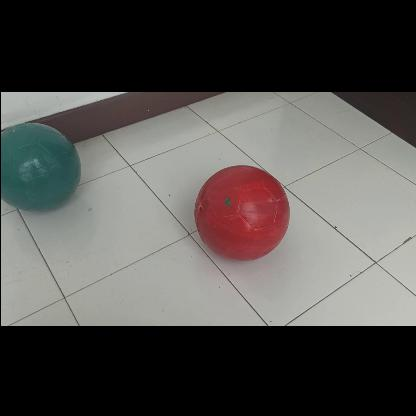red_ball: (193, 163, 289, 259)
